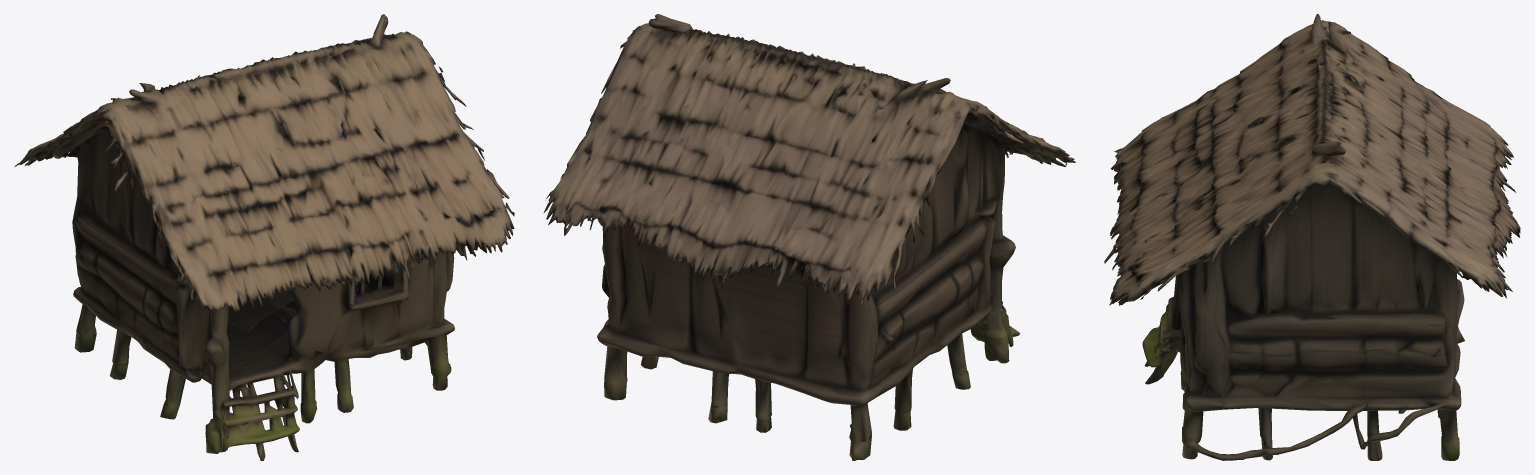
The model's file is stilt_hut.glb.
3 renders of one model, left to right at view 1: azimuth 30°, elevation 25°; view 2: azimuth 150°, elevation 25°; view 3: azimuth 270°, elevation 25°, orthographic. The views are drawn at different scales.
Size of the model in its own units: 2 by 1.77 by 2.
1 material, 1 textured.
